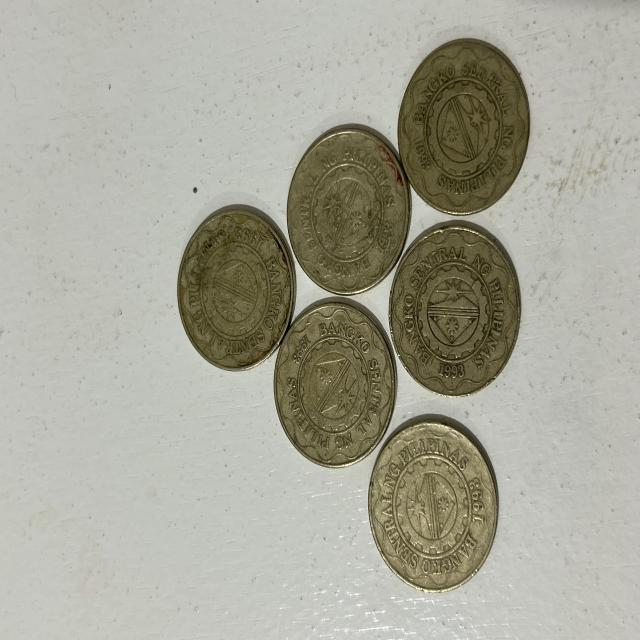5_Old_Back: (392, 218, 526, 398), (397, 36, 521, 222), (372, 416, 502, 587), (268, 296, 391, 472), (175, 203, 296, 374), (285, 127, 415, 280)
